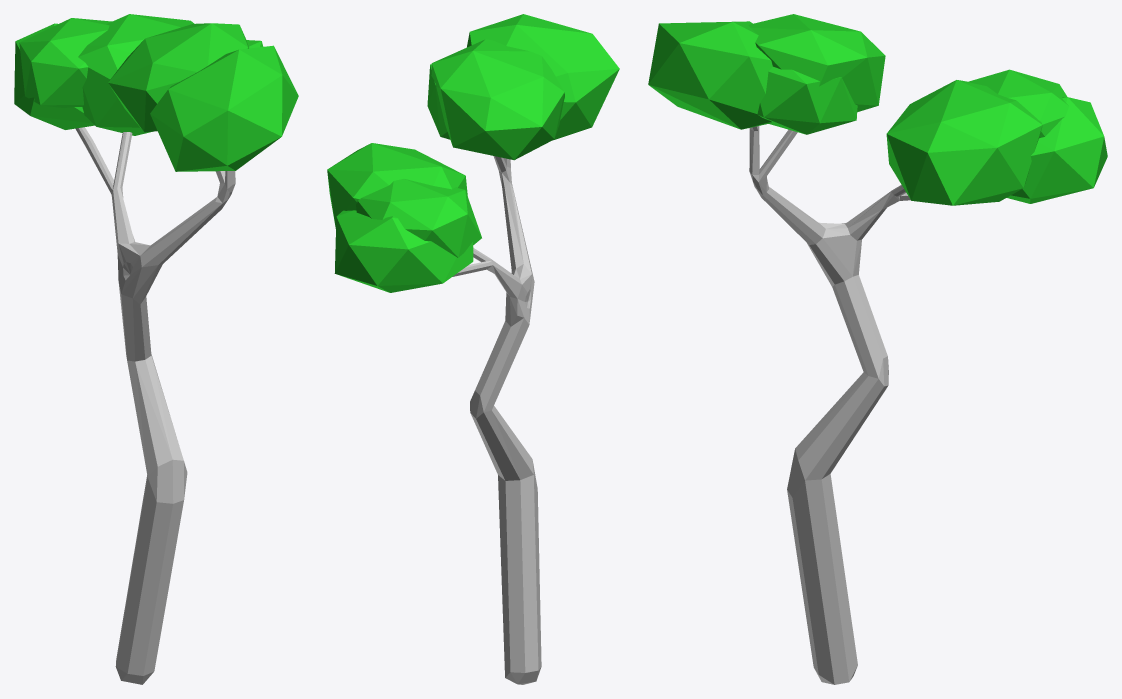
Rendered from tree0.obj.
3 renders of one model, left to right at view 1: azimuth 30°, elevation 25°; view 2: azimuth 150°, elevation 25°; view 3: azimuth 270°, elevation 25°, orthographic. The views are drawn at different scales.
Parts seen in each view (by area): view 1: Cube, Icosphere.001, Icosphere; view 2: Icosphere.001, Icosphere, Cube; view 3: Icosphere, Cube, Icosphere.001.
Part boxes in pixels (left/top/right/bottom): Cube: left=75, top=127, right=235, bottom=684; Icosphere.001: left=108, top=23, right=298, bottom=171; Icosphere: left=14, top=14, right=194, bottom=135; Icosphere.001: left=427, top=14, right=619, bottom=160; Icosphere: left=327, top=143, right=481, bottom=292; Cube: left=452, top=156, right=541, bottom=684; Icosphere: left=886, top=69, right=1107, bottom=205; Cube: left=749, top=126, right=910, bottom=684; Icosphere.001: left=648, top=14, right=885, bottom=134.
Size of the model in its own units: 15.73 by 55.25 by 33.32.
